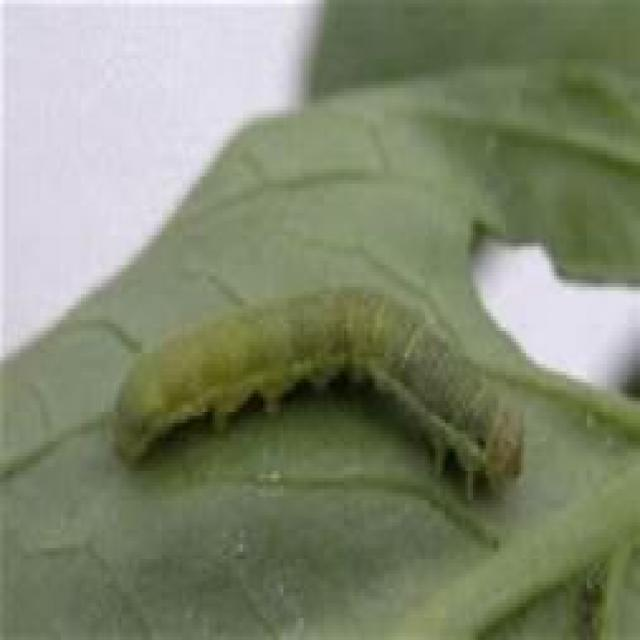BeetArmyWorm-Larva-: (106, 261, 541, 506)
